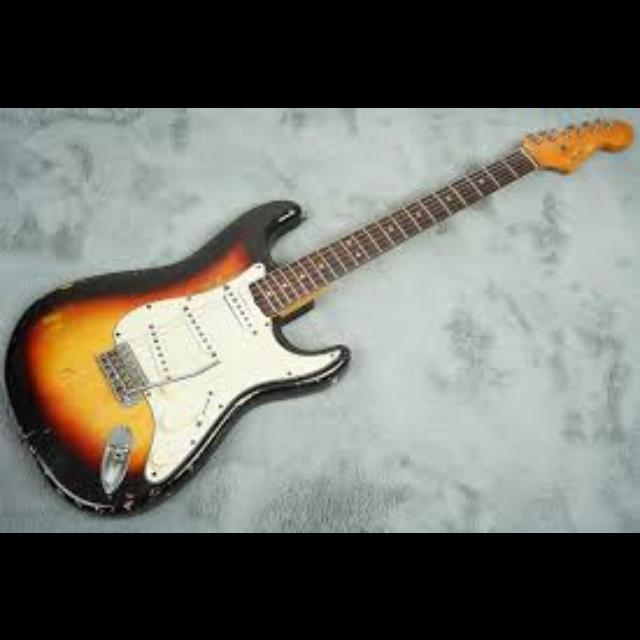Electric-Guitar: (3, 114, 635, 518)
